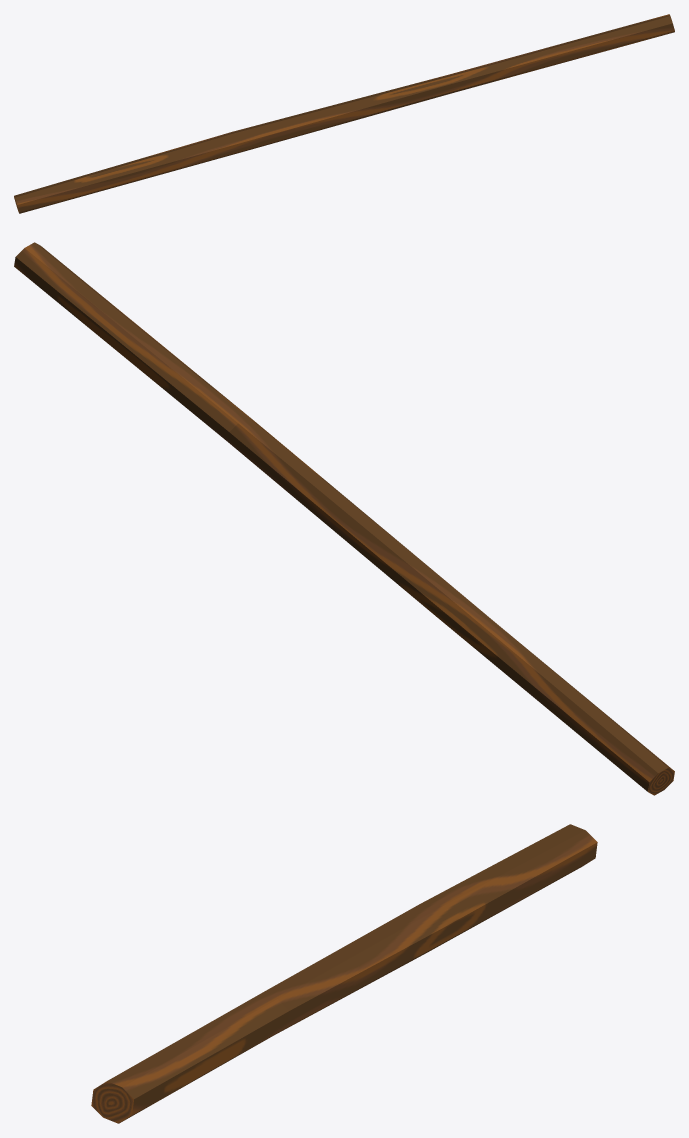
Rendered from StickDiagonal-1.glb.
3 renders of one model, top to bottom at view 1: azimuth 30°, elevation 25°; view 2: azimuth 150°, elevation 25°; view 3: azimuth 270°, elevation 25°, orthographic. The views are drawn at different scales.
Visible parts, largest first — view 1: StickDiagonal-1; view 2: StickDiagonal-1; view 3: StickDiagonal-1.
Boxes of the visible parts, <box> form: StickDiagonal-1: <box>14,14,674,213</box>; StickDiagonal-1: <box>14,242,674,795</box>; StickDiagonal-1: <box>91,824,597,1123</box>.
Size of the model in its own units: 2.25 by 0.6 by 0.9.
1 material, 1 textured.
